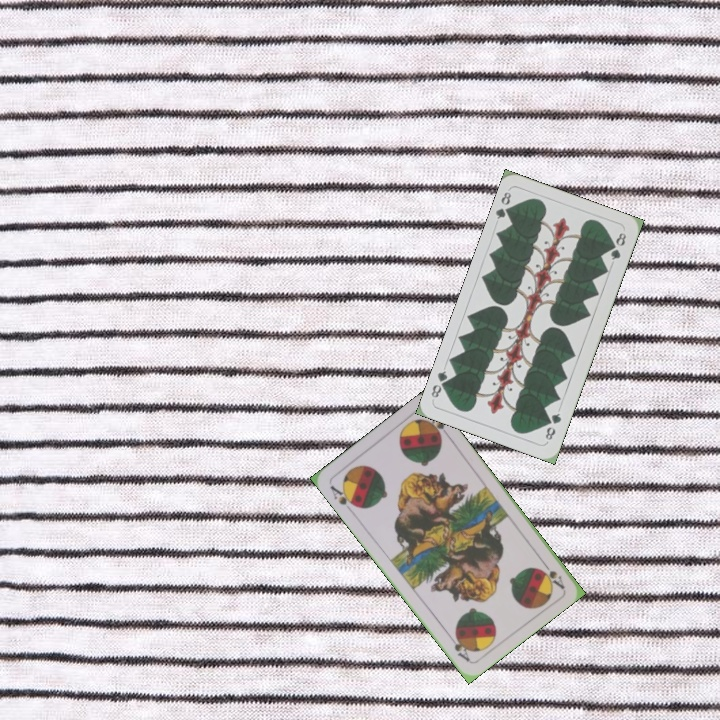G8: (492, 188, 516, 222), (541, 409, 564, 443)
SA: (326, 481, 361, 515), (537, 556, 567, 591)
